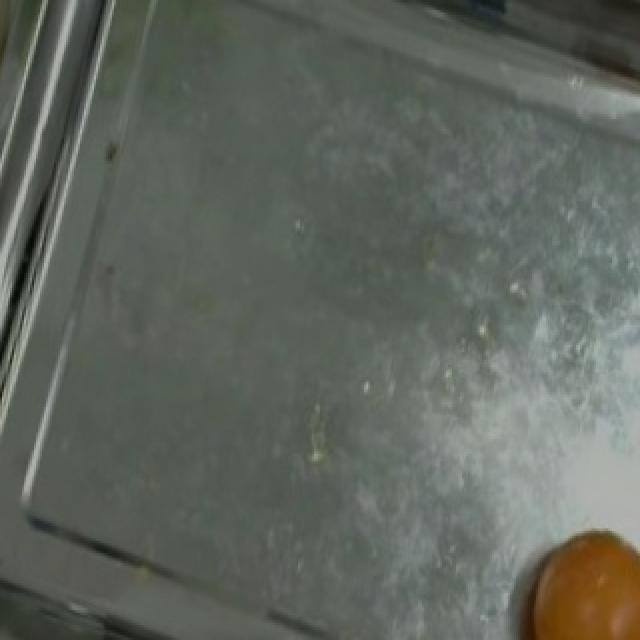Fruit: (506, 513, 640, 640)
